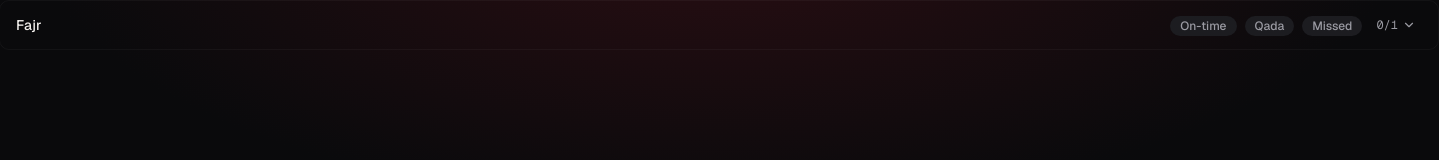
Scenario: PrayerRow › auto-expands the sunnah disclosure when marking On-time
Step 1. Click the button "On-time" → point(1203, 25), box [1170,13,1236,37]
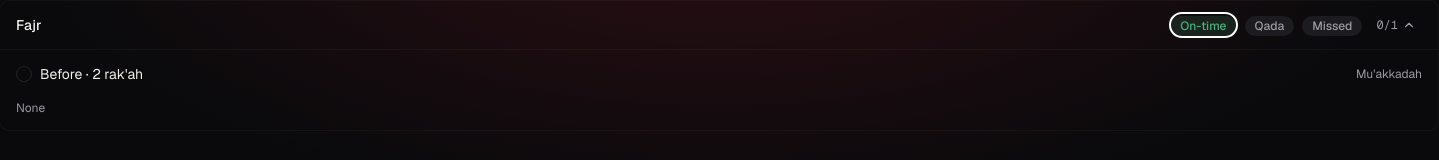
Check: the button named "sunnah for fajr" is expanded, box [1370,13,1422,37]
